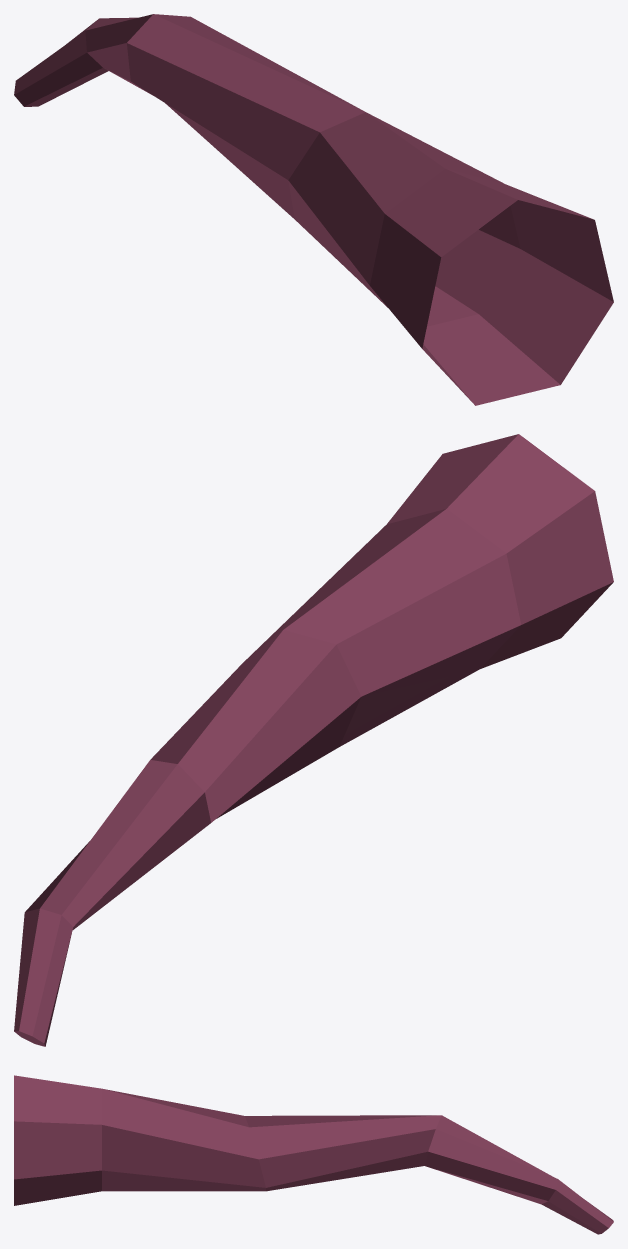
The model's file is Tree_8.fbx.
3 renders of one model, top to bottom at view 1: azimuth 30°, elevation 25°; view 2: azimuth 150°, elevation 25°; view 3: azimuth 270°, elevation 25°, orthographic. The views are drawn at different scales.
Parts seen in each view (by area): view 1: Tree_8.001; view 2: Tree_8.001; view 3: Tree_8.001.
Boxes of the visible parts, x1=… form: Tree_8.001: x1=14, y1=14, x2=613, y2=405; Tree_8.001: x1=14, y1=434, x2=613, y2=1046; Tree_8.001: x1=14, y1=1075, x2=613, y2=1234.
Bounding box in the file's own units: 0.8434 × 1.1 × 3.79.
